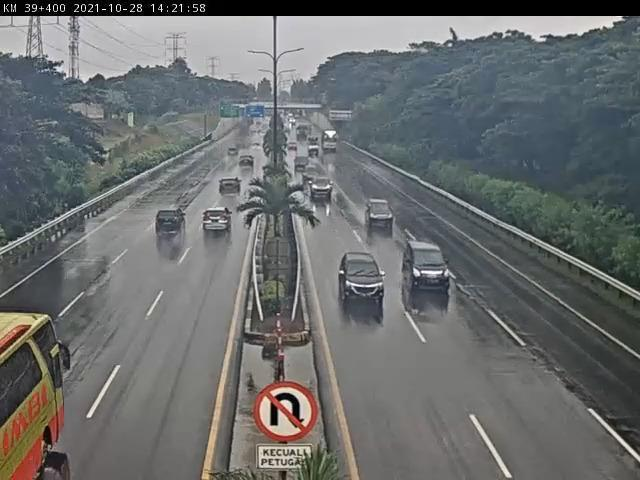car: (335, 251, 388, 308), (403, 241, 456, 295), (153, 203, 189, 237), (204, 206, 235, 237), (365, 199, 397, 227), (217, 176, 245, 199), (312, 176, 336, 199), (236, 155, 256, 173), (292, 153, 310, 170)
